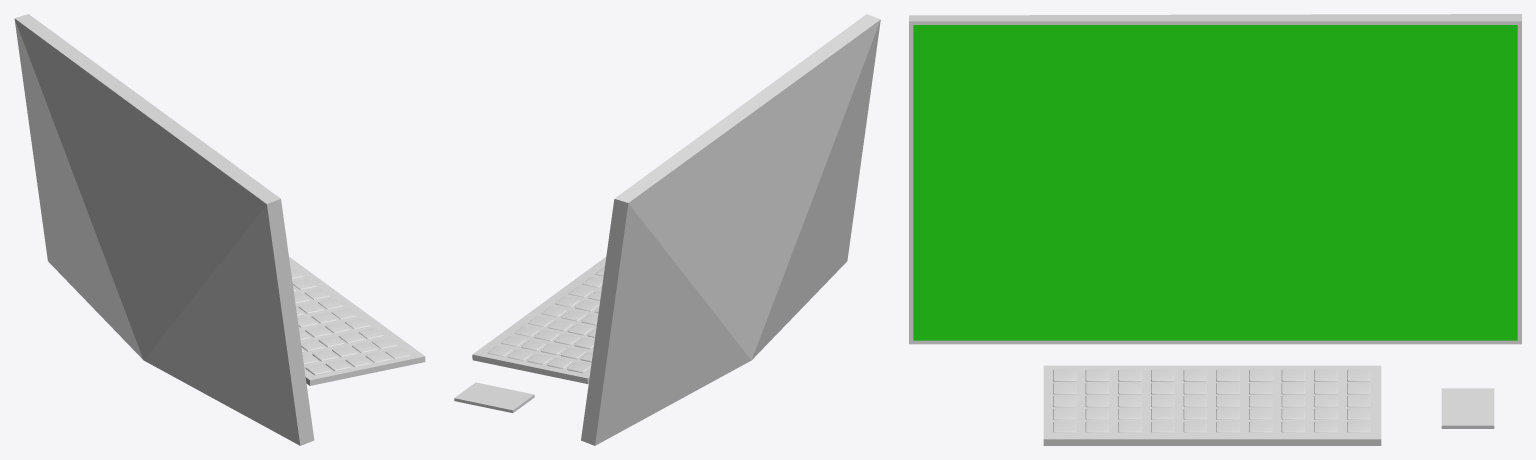
File: computer.fbx
The picture shows the model from 3 angles, left to right: view 1: azimuth 30°, elevation 25°; view 2: azimuth 150°, elevation 25°; view 3: azimuth 270°, elevation 25°; orthographic projection. The views are drawn at different scales.
Visible parts, largest first — view 1: Cube, Cube.002, Cube.001; view 2: Cube, Cube.002, Cube.001, Cube.003; view 3: Cube, Cube.002, Cube.001, Cube.003.
Boxes of the visible parts, x1,y1,x2,y2 form: Cube: (14, 14, 314, 445); Cube.002: (291, 269, 410, 375); Cube.001: (289, 257, 425, 385); Cube: (581, 14, 880, 445); Cube.002: (487, 267, 604, 373); Cube.001: (472, 257, 606, 383); Cube.003: (454, 382, 534, 412); Cube: (909, 14, 1521, 344); Cube.002: (1053, 369, 1370, 432); Cube.001: (1043, 365, 1381, 445); Cube.003: (1441, 388, 1494, 428).
Size of the model in its own units: 177 by 200 by 363.
